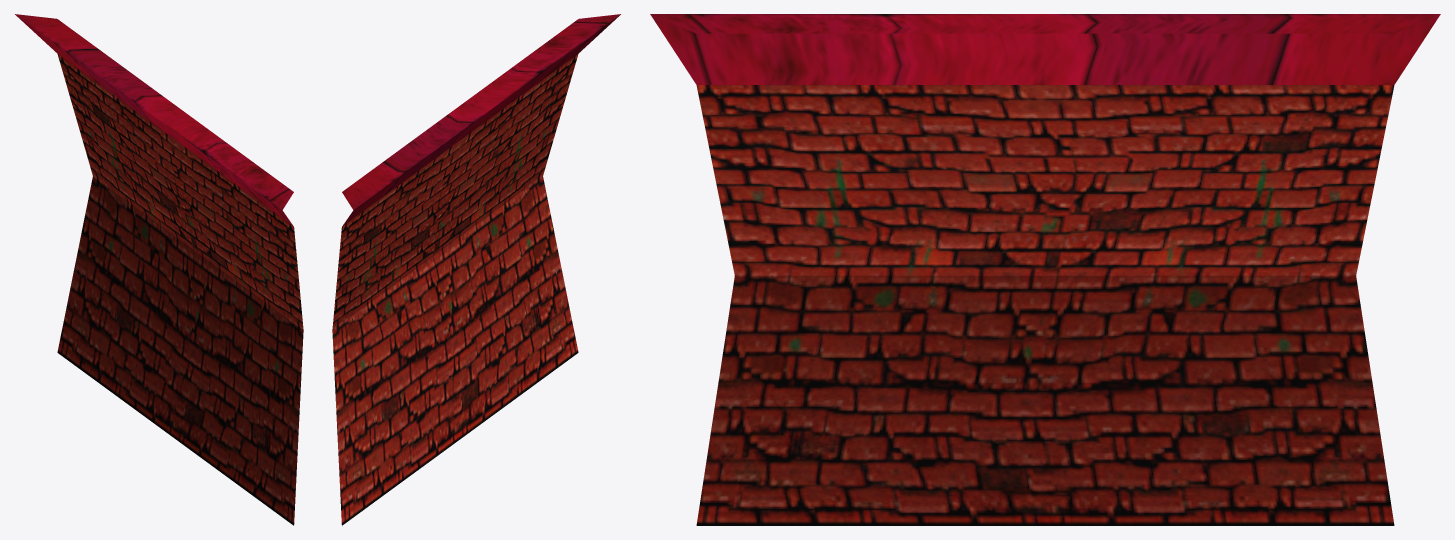
File: W_A1_xx [Ziegel]_1664.glb
3 renders of one model, left to right at view 1: azimuth 30°, elevation 25°; view 2: azimuth 150°, elevation 25°; view 3: azimuth 270°, elevation 25°, orthographic. The views are drawn at different scales.
Parts seen in each view (by area): view 1: pPlaneShape1, polySurfaceShape1065; view 2: pPlaneShape1, polySurfaceShape1065; view 3: pPlaneShape1, polySurfaceShape1065.
Boxes of the visible parts, box(x1,y1,x2,y2) form: pPlaneShape1: box(57, 54, 303, 525); polySurfaceShape1065: box(15, 14, 293, 226); pPlaneShape1: box(332, 54, 578, 525); polySurfaceShape1065: box(342, 14, 620, 226); pPlaneShape1: box(696, 85, 1394, 525); polySurfaceShape1065: box(650, 14, 1440, 84).
Bounding box in the file's own units: 0.0607 × 0.3891 × 0.5666.
Materials: 2 (2 with a texture image).
